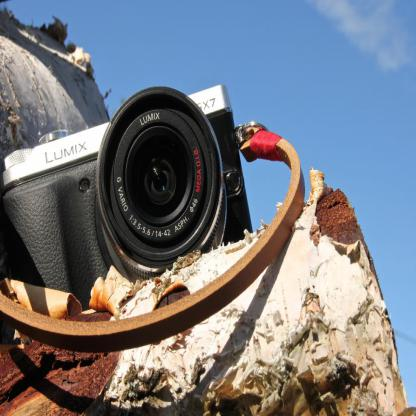Camera: (1, 80, 258, 309)
